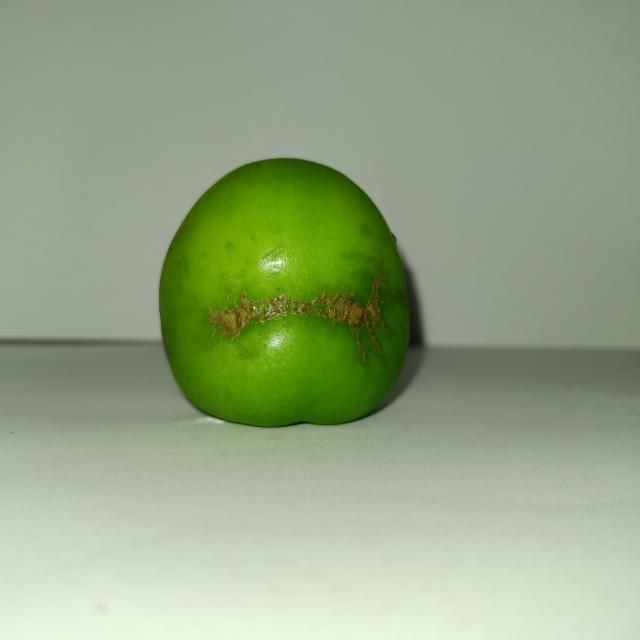Red: (156, 155, 412, 428)
